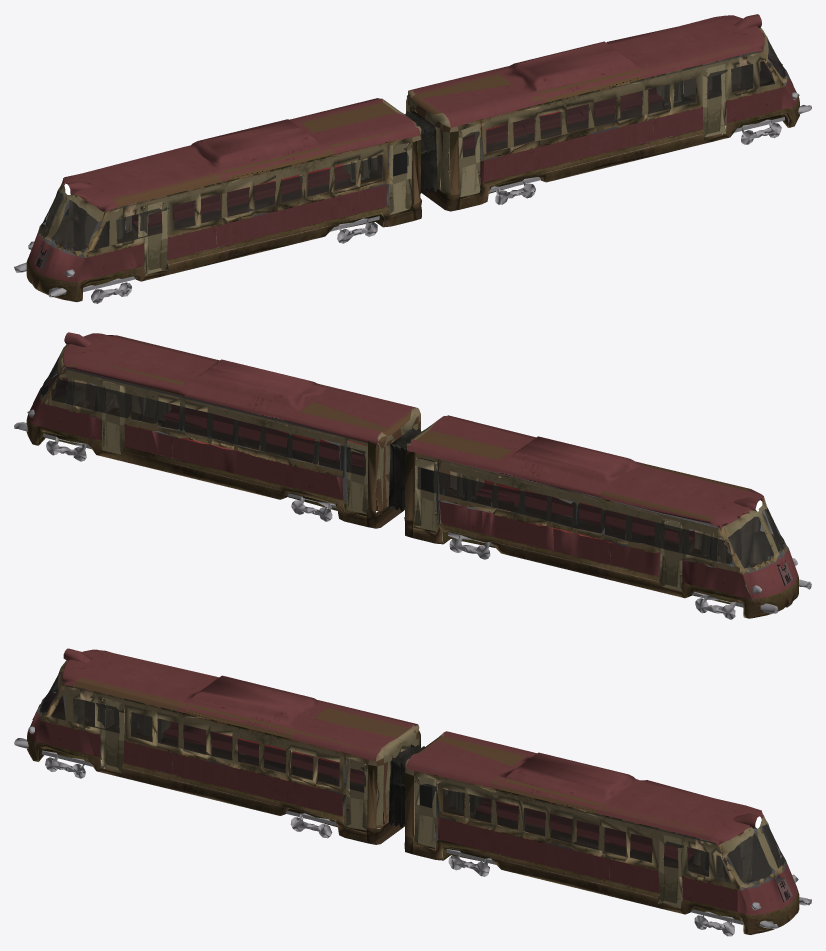
The model's file is train.glb.
3 renders of one model, top to bottom at view 1: azimuth 30°, elevation 25°; view 2: azimuth 150°, elevation 25°; view 3: azimuth 330°, elevation 25°, orthographic.
Visible parts, largest first — view 1: polySurface6560_lambert22_0; view 2: polySurface6560_lambert22_0; view 3: polySurface6560_lambert22_0.
Boxes of the visible parts, x1,y1,x2,y2 form: polySurface6560_lambert22_0: [14, 14, 811, 303]; polySurface6560_lambert22_0: [14, 332, 811, 619]; polySurface6560_lambert22_0: [14, 648, 811, 936].
Bounding box in the file's own units: 23.64 × 3.15 × 2.65.
8 materials, 6 textured.
